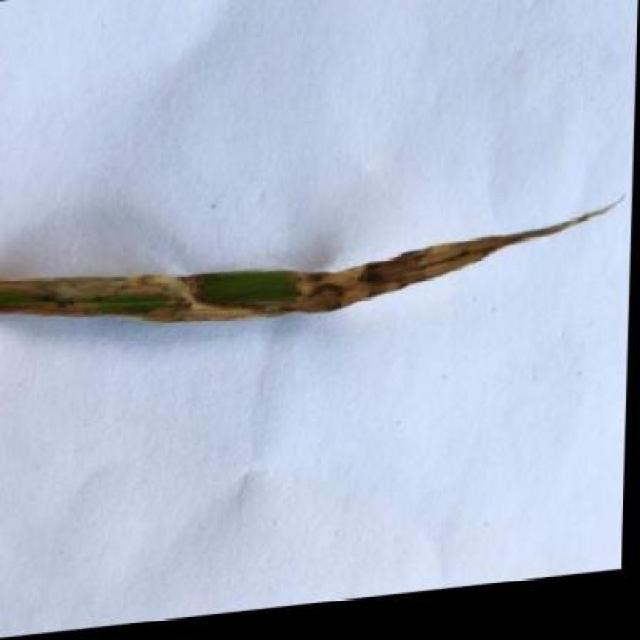Brown_Spot: (0, 201, 634, 361)
